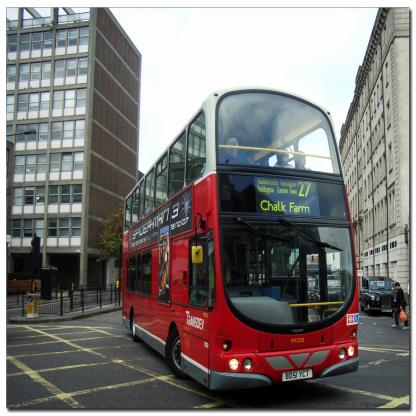Bus: (122, 82, 360, 393)
Car: (370, 282, 409, 324)
